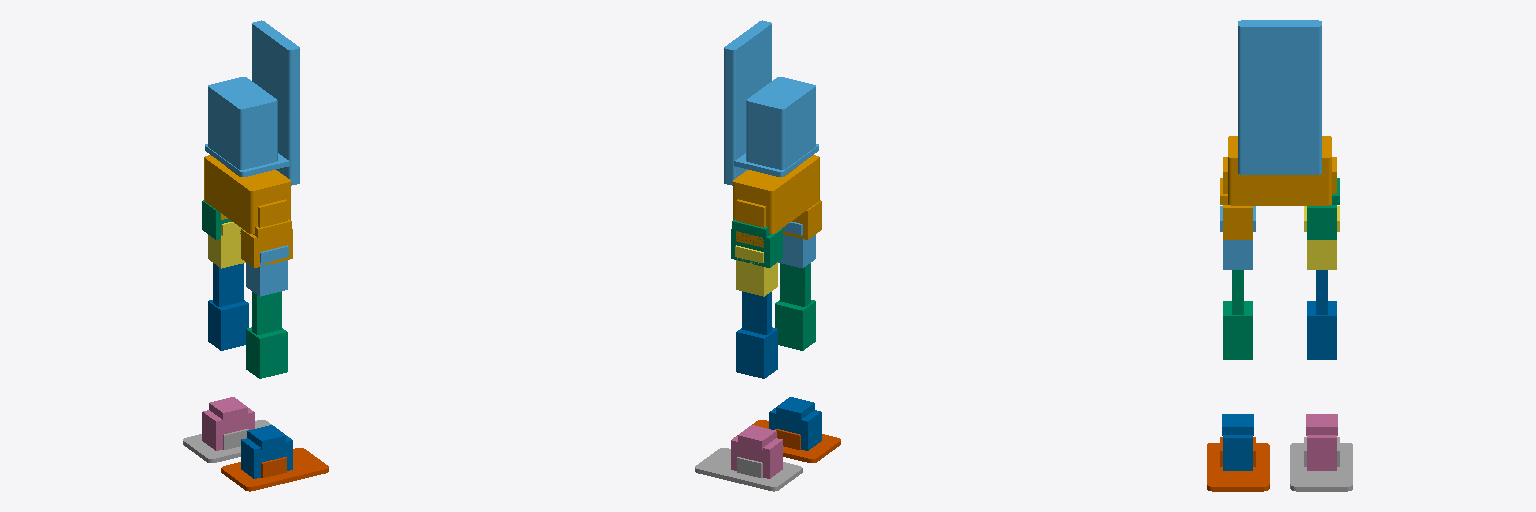
URDF robot description (phonebot_like):
<?xml version="1.0"?>
<robot name="phonebot_like">
  <link name="pelvis">
    <visual><geometry><mesh filename="../cad/stl/pelvis.stl" scale="0.001 0.001 0.001"/></geometry></visual>
    <collision><geometry><mesh filename="../cad/stl/pelvis.stl" scale="0.001 0.001 0.001"/></geometry></collision>
    <inertial><origin xyz="0.00000 0.00000 -0.00760"/><mass value="0.3"/>
      <inertia ixx="3.947e-04" ixy="-1.512e-21" ixz="3.423e-21" iyy="1.826e-04" iyz="-3.502e-21" izz="3.222e-04"/></inertial>
  </link>
  <link name="torso">
    <visual><geometry><mesh filename="../cad/stl/torso.stl" scale="0.001 0.001 0.001"/></geometry></visual>
    <collision><geometry><mesh filename="../cad/stl/torso.stl" scale="0.001 0.001 0.001"/></geometry></collision>
    <inertial><origin xyz="0.00281 -0.00000 0.04097"/><mass value="0.45"/>
      <inertia ixx="6.382e-04" ixy="1.064e-20" ixz="-4.666e-05" iyy="6.023e-04" iyz="-1.229e-20" izz="3.832e-04"/></inertial>
  </link>
  <joint name="torso_yaw" type="revolute">
    <parent link="pelvis"/><child link="torso"/>
    <origin xyz="0 0 0.03"/><axis xyz="0 0 1"/>
    <limit lower="-1.0" upper="1.0" effort="1.4" velocity="5.5"/>
  </joint>
  <link name="l_hip_yaw_link">
    <visual><geometry><mesh filename="../cad/stl/hip_yaw_link.stl" scale="0.001 0.001 0.001"/></geometry></visual>
    <collision><geometry><mesh filename="../cad/stl/hip_yaw_link.stl" scale="0.001 0.001 0.001"/></geometry></collision>
    <inertial><origin xyz="0.00000 0.00000 -0.02267"/><mass value="0.09"/>
      <inertia ixx="2.200e-05" ixy="-0.000e+00" ixz="-0.000e+00" iyy="3.055e-05" iyz="-0.000e+00" izz="2.193e-05"/></inertial>
  </link>
  <link name="l_hip_roll_link">
    <visual><geometry><mesh filename="../cad/stl/hip_roll_link.stl" scale="0.001 0.001 0.001"/></geometry></visual>
    <collision><geometry><mesh filename="../cad/stl/hip_roll_link.stl" scale="0.001 0.001 0.001"/></geometry></collision>
    <inertial><origin xyz="-0.00000 0.00000 -0.02478"/><mass value="0.09"/>
      <inertia ixx="2.711e-05" ixy="4.781e-23" ixz="1.895e-22" iyy="2.900e-05" iyz="-3.825e-22" izz="1.545e-05"/></inertial>
  </link>
  <link name="l_thigh">
    <visual><geometry><mesh filename="../cad/stl/thigh.stl" scale="0.001 0.001 0.001"/></geometry></visual>
    <collision><geometry><mesh filename="../cad/stl/thigh.stl" scale="0.001 0.001 0.001"/></geometry></collision>
    <inertial><origin xyz="0.00000 0.00000 -0.07346"/><mass value="0.1"/>
      <inertia ixx="1.128e-04" ixy="-0.000e+00" ixz="-0.000e+00" iyy="1.169e-04" iyz="-0.000e+00" izz="1.360e-05"/></inertial>
  </link>
  <link name="l_shank">
    <visual><geometry><mesh filename="../cad/stl/shank.stl" scale="0.001 0.001 0.001"/></geometry></visual>
    <collision><geometry><mesh filename="../cad/stl/shank.stl" scale="0.001 0.001 0.001"/></geometry></collision>
    <inertial><origin xyz="0.00000 0.00000 -0.07346"/><mass value="0.1"/>
      <inertia ixx="1.128e-04" ixy="-0.000e+00" ixz="-0.000e+00" iyy="1.169e-04" iyz="-0.000e+00" izz="1.360e-05"/></inertial>
  </link>
  <link name="l_ankle_link">
    <visual><geometry><mesh filename="../cad/stl/ankle_link.stl" scale="0.001 0.001 0.001"/></geometry></visual>
    <collision><geometry><mesh filename="../cad/stl/ankle_link.stl" scale="0.001 0.001 0.001"/></geometry></collision>
    <inertial><origin xyz="0.00000 0.00000 -0.02208"/><mass value="0.09"/>
      <inertia ixx="1.847e-05" ixy="-0.000e+00" ixz="-0.000e+00" iyy="2.716e-05" iyz="-5.467e-22" izz="2.110e-05"/></inertial>
  </link>
  <link name="l_foot">
    <visual><geometry><mesh filename="../cad/stl/foot.stl" scale="0.001 0.001 0.001"/></geometry></visual>
    <collision><geometry><mesh filename="../cad/stl/foot.stl" scale="0.001 0.001 0.001"/></geometry></collision>
    <inertial><origin xyz="0.00633 0.00000 -0.01546"/><mass value="0.05"/>
      <inertia ixx="1.309e-05" ixy="1.639e-22" ixz="1.278e-06" iyy="3.056e-05" iyz="6.772e-23" izz="3.982e-05"/></inertial>
  </link>
  <joint name="l_hip_yaw" type="revolute">
    <parent link="pelvis"/><child link="l_hip_yaw_link"/>
    <origin xyz="0 0.04 -0.025"/><axis xyz="0 0 1"/>
    <limit lower="-0.8" upper="0.8" effort="1.4" velocity="5.5"/>
  </joint>
  <joint name="l_hip_roll" type="revolute">
    <parent link="l_hip_yaw_link"/><child link="l_hip_roll_link"/>
    <origin xyz="0 0 -0.028"/><axis xyz="1 0 0"/>
    <limit lower="-0.6" upper="0.6" effort="1.4" velocity="5.5"/>
  </joint>
  <joint name="l_hip_pitch" type="revolute">
    <parent link="l_hip_roll_link"/><child link="l_thigh"/>
    <origin xyz="0 0 -0.028"/><axis xyz="0 1 0"/>
    <limit lower="-1.5" upper="1.5" effort="1.4" velocity="5.5"/>
  </joint>
  <joint name="l_knee" type="revolute">
    <parent link="l_thigh"/><child link="l_shank"/>
    <origin xyz="0 0 -0.095"/><axis xyz="0 1 0"/>
    <limit lower="0.0" upper="2.4" effort="1.4" velocity="5.5"/>
  </joint>
  <joint name="l_ankle_pitch" type="revolute">
    <parent link="l_shank"/><child link="l_ankle_link"/>
    <origin xyz="0 0 -0.095"/><axis xyz="0 1 0"/>
    <limit lower="-1.0" upper="1.0" effort="1.4" velocity="5.5"/>
  </joint>
  <joint name="l_ankle_roll" type="revolute">
    <parent link="l_ankle_link"/><child link="l_foot"/>
    <origin xyz="0 0 -0.025"/><axis xyz="1 0 0"/>
    <limit lower="-0.6" upper="0.6" effort="1.4" velocity="5.5"/>
  </joint>
  <link name="r_hip_yaw_link">
    <visual><geometry><mesh filename="../cad/stl/hip_yaw_link.stl" scale="0.001 0.001 0.001"/></geometry></visual>
    <collision><geometry><mesh filename="../cad/stl/hip_yaw_link.stl" scale="0.001 0.001 0.001"/></geometry></collision>
    <inertial><origin xyz="0.00000 0.00000 -0.02267"/><mass value="0.09"/>
      <inertia ixx="2.200e-05" ixy="-0.000e+00" ixz="-0.000e+00" iyy="3.055e-05" iyz="-0.000e+00" izz="2.193e-05"/></inertial>
  </link>
  <link name="r_hip_roll_link">
    <visual><geometry><mesh filename="../cad/stl/hip_roll_link.stl" scale="0.001 0.001 0.001"/></geometry></visual>
    <collision><geometry><mesh filename="../cad/stl/hip_roll_link.stl" scale="0.001 0.001 0.001"/></geometry></collision>
    <inertial><origin xyz="-0.00000 0.00000 -0.02478"/><mass value="0.09"/>
      <inertia ixx="2.711e-05" ixy="4.781e-23" ixz="1.895e-22" iyy="2.900e-05" iyz="-3.825e-22" izz="1.545e-05"/></inertial>
  </link>
  <link name="r_thigh">
    <visual><geometry><mesh filename="../cad/stl/thigh.stl" scale="0.001 0.001 0.001"/></geometry></visual>
    <collision><geometry><mesh filename="../cad/stl/thigh.stl" scale="0.001 0.001 0.001"/></geometry></collision>
    <inertial><origin xyz="0.00000 0.00000 -0.07346"/><mass value="0.1"/>
      <inertia ixx="1.128e-04" ixy="-0.000e+00" ixz="-0.000e+00" iyy="1.169e-04" iyz="-0.000e+00" izz="1.360e-05"/></inertial>
  </link>
  <link name="r_shank">
    <visual><geometry><mesh filename="../cad/stl/shank.stl" scale="0.001 0.001 0.001"/></geometry></visual>
    <collision><geometry><mesh filename="../cad/stl/shank.stl" scale="0.001 0.001 0.001"/></geometry></collision>
    <inertial><origin xyz="0.00000 0.00000 -0.07346"/><mass value="0.1"/>
      <inertia ixx="1.128e-04" ixy="-0.000e+00" ixz="-0.000e+00" iyy="1.169e-04" iyz="-0.000e+00" izz="1.360e-05"/></inertial>
  </link>
  <link name="r_ankle_link">
    <visual><geometry><mesh filename="../cad/stl/ankle_link.stl" scale="0.001 0.001 0.001"/></geometry></visual>
    <collision><geometry><mesh filename="../cad/stl/ankle_link.stl" scale="0.001 0.001 0.001"/></geometry></collision>
    <inertial><origin xyz="0.00000 0.00000 -0.02208"/><mass value="0.09"/>
      <inertia ixx="1.847e-05" ixy="-0.000e+00" ixz="-0.000e+00" iyy="2.716e-05" iyz="-5.467e-22" izz="2.110e-05"/></inertial>
  </link>
  <link name="r_foot">
    <visual><geometry><mesh filename="../cad/stl/foot.stl" scale="0.001 0.001 0.001"/></geometry></visual>
    <collision><geometry><mesh filename="../cad/stl/foot.stl" scale="0.001 0.001 0.001"/></geometry></collision>
    <inertial><origin xyz="0.00633 0.00000 -0.01546"/><mass value="0.05"/>
      <inertia ixx="1.309e-05" ixy="1.639e-22" ixz="1.278e-06" iyy="3.056e-05" iyz="6.772e-23" izz="3.982e-05"/></inertial>
  </link>
  <joint name="r_hip_yaw" type="revolute">
    <parent link="pelvis"/><child link="r_hip_yaw_link"/>
    <origin xyz="0 -0.04 -0.025"/><axis xyz="0 0 1"/>
    <limit lower="-0.8" upper="0.8" effort="1.4" velocity="5.5"/>
  </joint>
  <joint name="r_hip_roll" type="revolute">
    <parent link="r_hip_yaw_link"/><child link="r_hip_roll_link"/>
    <origin xyz="0 0 -0.028"/><axis xyz="1 0 0"/>
    <limit lower="-0.6" upper="0.6" effort="1.4" velocity="5.5"/>
  </joint>
  <joint name="r_hip_pitch" type="revolute">
    <parent link="r_hip_roll_link"/><child link="r_thigh"/>
    <origin xyz="0 0 -0.028"/><axis xyz="0 1 0"/>
    <limit lower="-1.5" upper="1.5" effort="1.4" velocity="5.5"/>
  </joint>
  <joint name="r_knee" type="revolute">
    <parent link="r_thigh"/><child link="r_shank"/>
    <origin xyz="0 0 -0.095"/><axis xyz="0 1 0"/>
    <limit lower="0.0" upper="2.4" effort="1.4" velocity="5.5"/>
  </joint>
  <joint name="r_ankle_pitch" type="revolute">
    <parent link="r_shank"/><child link="r_ankle_link"/>
    <origin xyz="0 0 -0.095"/><axis xyz="0 1 0"/>
    <limit lower="-1.0" upper="1.0" effort="1.4" velocity="5.5"/>
  </joint>
  <joint name="r_ankle_roll" type="revolute">
    <parent link="r_ankle_link"/><child link="r_foot"/>
    <origin xyz="0 0 -0.025"/><axis xyz="1 0 0"/>
    <limit lower="-0.6" upper="0.6" effort="1.4" velocity="5.5"/>
  </joint>
</robot>

--- Facts derived from the render (not from the file) ---
The picture shows the robot from 3 angles, left to right: view 1: azimuth 30°, elevation 25°; view 2: azimuth 150°, elevation 25°; view 3: azimuth 270°, elevation 25°; orthographic projection.
Model phonebot_like with 14 links and 13 joints (13 revolute), rooted at pelvis, posed all joints at 0.
Visible links, largest first — view 1: torso, pelvis, r_thigh, l_thigh, r_foot, r_ankle_link, l_ankle_link, r_hip_roll_link, r_hip_yaw_link, l_foot, l_hip_roll_link, l_hip_yaw_link; view 2: torso, pelvis, l_thigh, r_thigh, l_foot, l_ankle_link, r_ankle_link, l_hip_roll_link, l_hip_yaw_link, r_foot, r_hip_roll_link, r_hip_yaw_link; view 3: torso, pelvis, l_foot, r_foot, l_thigh, r_thigh, l_ankle_link, r_ankle_link, l_hip_yaw_link, r_hip_yaw_link, l_hip_roll_link, r_hip_roll_link.
Link boxes in pixels (x1,y1,x2,y2): torso: [205, 20, 299, 185]; pelvis: [204, 155, 290, 247]; r_thigh: [246, 291, 287, 378]; l_thigh: [208, 263, 248, 350]; r_foot: [221, 448, 328, 491]; r_ankle_link: [241, 425, 292, 478]; l_ankle_link: [202, 397, 254, 450]; r_hip_roll_link: [246, 245, 288, 296]; r_hip_yaw_link: [241, 219, 292, 267]; l_foot: [183, 420, 289, 462]; l_hip_roll_link: [208, 222, 245, 268]; l_hip_yaw_link: [202, 200, 240, 239]; torso: [724, 20, 818, 185]; pelvis: [733, 155, 819, 247]; l_thigh: [736, 291, 777, 378]; r_thigh: [775, 263, 815, 350]; l_foot: [695, 448, 802, 491]; l_ankle_link: [731, 425, 782, 478]; r_ankle_link: [769, 397, 821, 450]; l_hip_roll_link: [735, 245, 777, 296]; l_hip_yaw_link: [731, 219, 782, 267]; r_foot: [734, 420, 840, 462]; r_hip_roll_link: [778, 222, 815, 268]; r_hip_yaw_link: [783, 200, 821, 239]; torso: [1238, 20, 1321, 174]; pelvis: [1223, 136, 1336, 205]; l_foot: [1290, 437, 1352, 491]; r_foot: [1207, 437, 1269, 491]; l_thigh: [1307, 270, 1336, 359]; r_thigh: [1223, 270, 1252, 359]; l_ankle_link: [1306, 414, 1337, 470]; r_ankle_link: [1222, 414, 1253, 470]; l_hip_yaw_link: [1307, 178, 1339, 239]; r_hip_yaw_link: [1220, 178, 1252, 239]; l_hip_roll_link: [1304, 206, 1339, 269]; r_hip_roll_link: [1220, 206, 1255, 269].
Size in the robot's own frame: 0.1 by 0.14 by 0.481 metres.
Meshes: 8 distinct files referenced, 12 mesh visuals loaded (7 binary STL); not drawn: 2 (reference not matched to a file when rendering).
